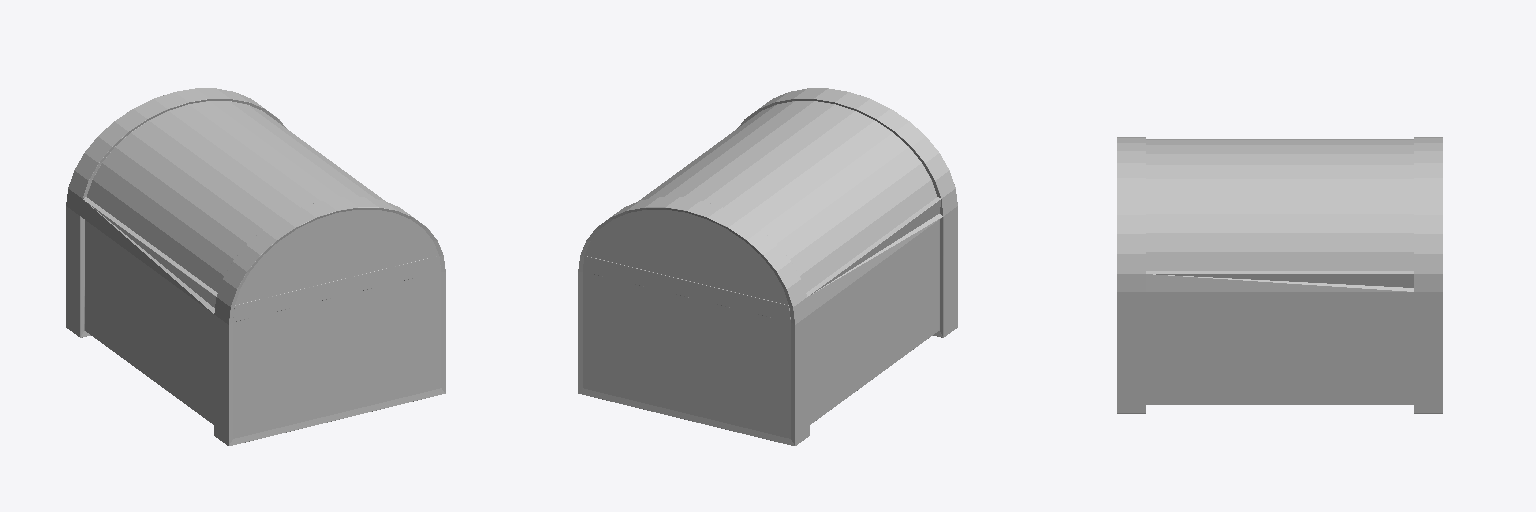
Rendered from chest1.obj.
3 views of the same model, side by side, from view 1: azimuth 30°, elevation 25°; view 2: azimuth 150°, elevation 25°; view 3: azimuth 270°, elevation 25° (orthographic).
Parts seen in each view (by area): view 1: Circle_Wood_Black_90, Circle_Old_Brass; view 2: Circle_Wood_Black_90, Circle_Old_Brass; view 3: Circle_Wood_Black_90, Circle_Old_Brass.
Boxes of the visible parts, x1,y1,x2,y2 form: Circle_Wood_Black_90: [85, 101, 440, 438]; Circle_Old_Brass: [66, 88, 445, 445]; Circle_Wood_Black_90: [583, 101, 938, 438]; Circle_Old_Brass: [578, 88, 957, 445]; Circle_Wood_Black_90: [1146, 139, 1413, 404]; Circle_Old_Brass: [1117, 137, 1442, 413].
Bounding box in the file's own units: 2.97 × 2.73 × 3.85.